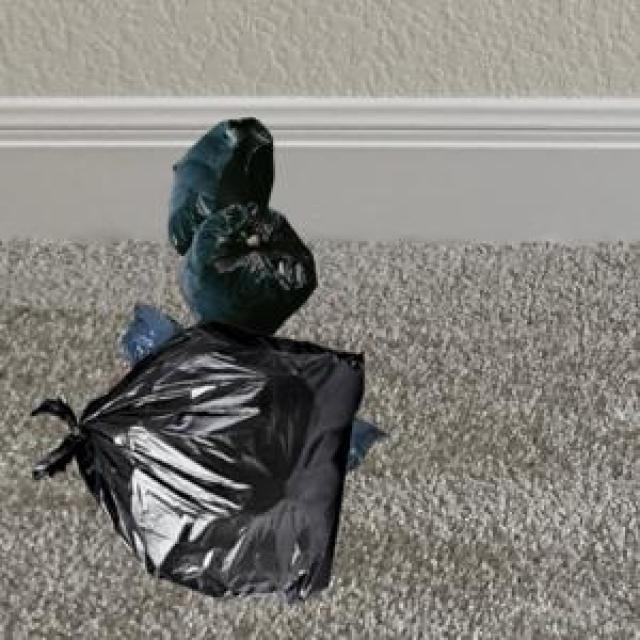Vinyl: (34, 118, 380, 601)
